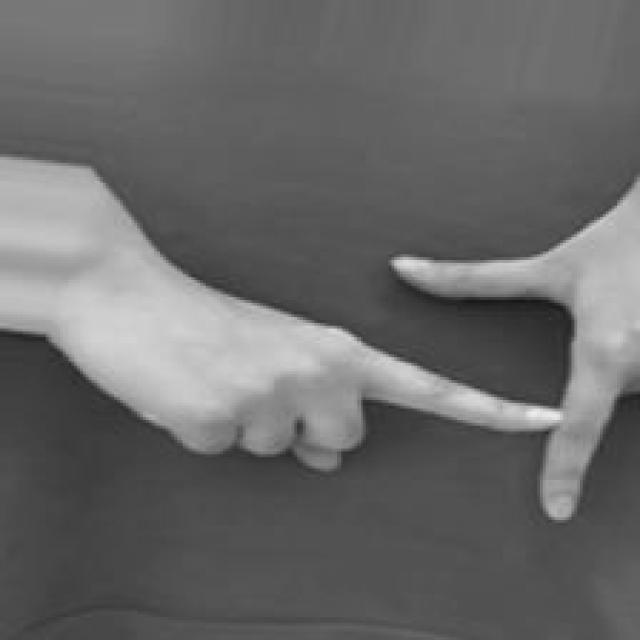F: (143, 211, 640, 520)
